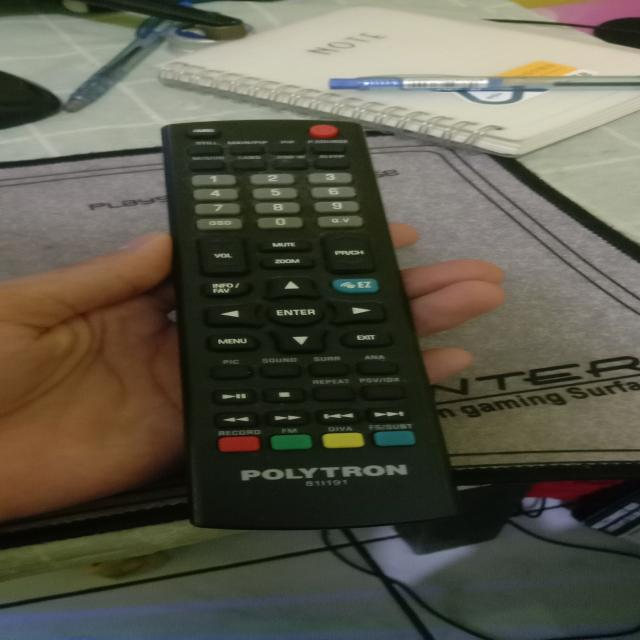remote: (151, 114, 459, 529)
